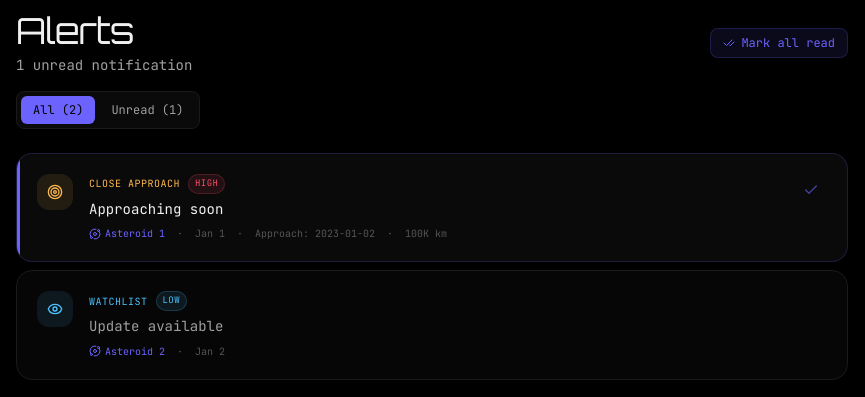
Test: AlertsShell › filters unread alerts
Click the button "Unread (1)": {"x": 147, "y": 110} top-left (99, 96), bottom-right (195, 124)
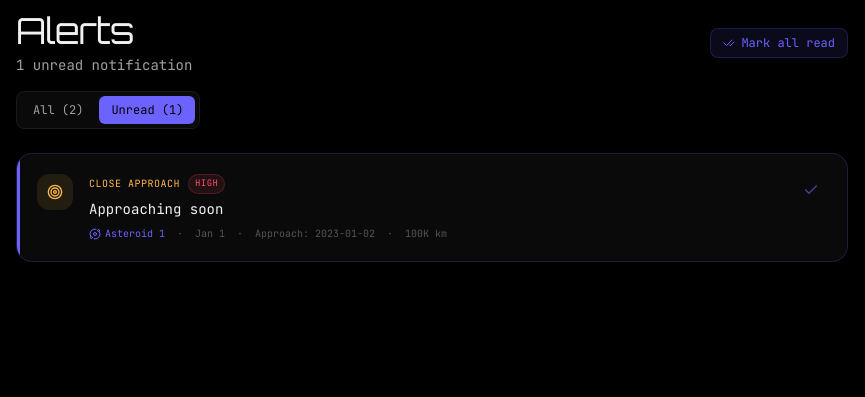
expect the link "Asteroid 1" is shown: met, box top-left (89, 226), bottom-right (165, 241)
expect the link "Asteroid 2" is gone: met
